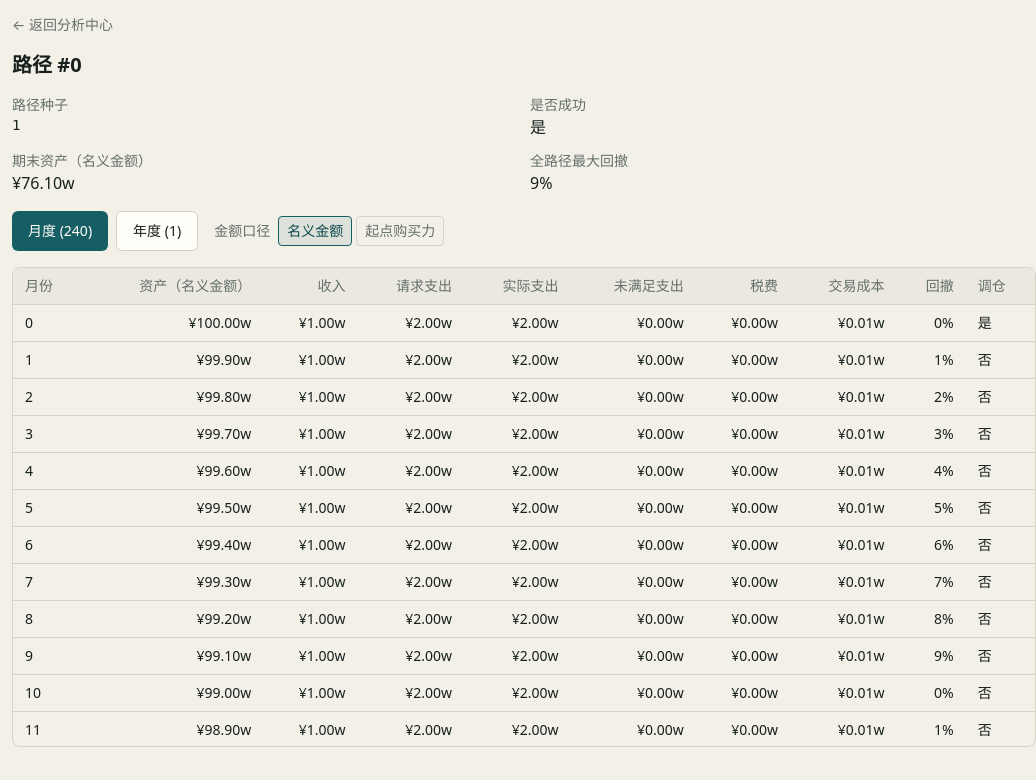
Test: PathDetailPage › opens year-end weights via 查看 tooltip with graceful labels, never holding IDs
Expected: the button "月度 (240)" is shown, [12, 211, 108, 251]
Step 1. Click the button "年度 (1)" → (157, 231), box [116, 211, 198, 251]
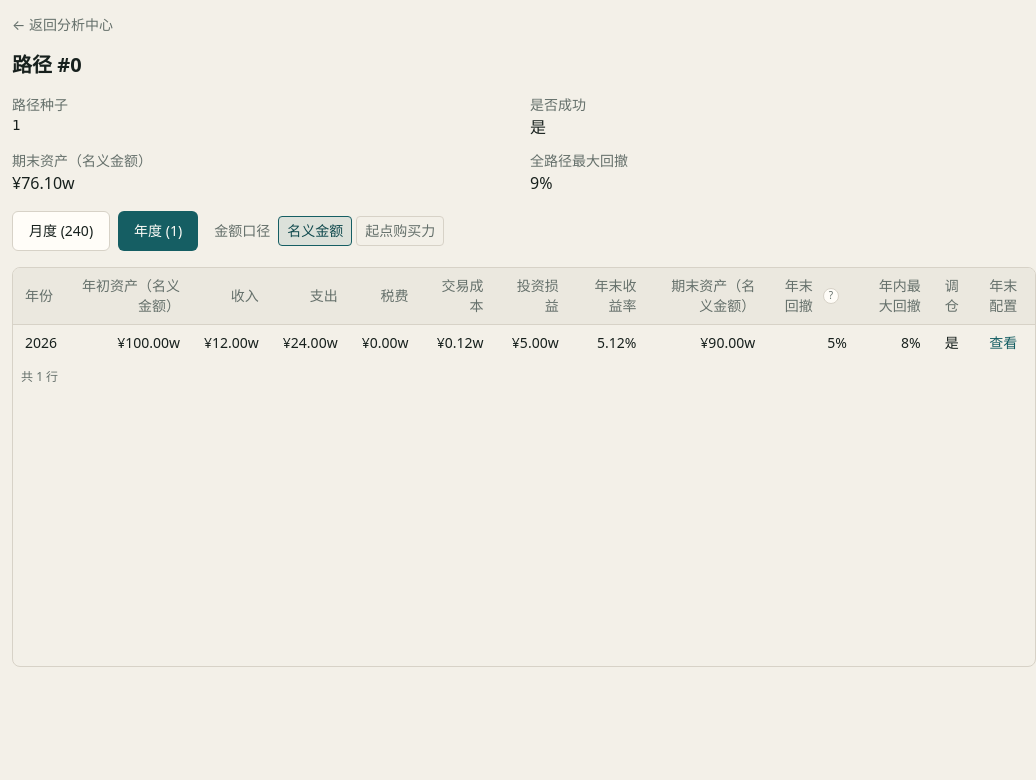
Expected: the text "沪深300ETF（510300）: 70.00%" is not shown
Note: Hover opens the tooltip.
Step 2. Hover over the button with aria-label "查看 2026 年末资产配置" → (1003, 343), box [989, 333, 1017, 353]
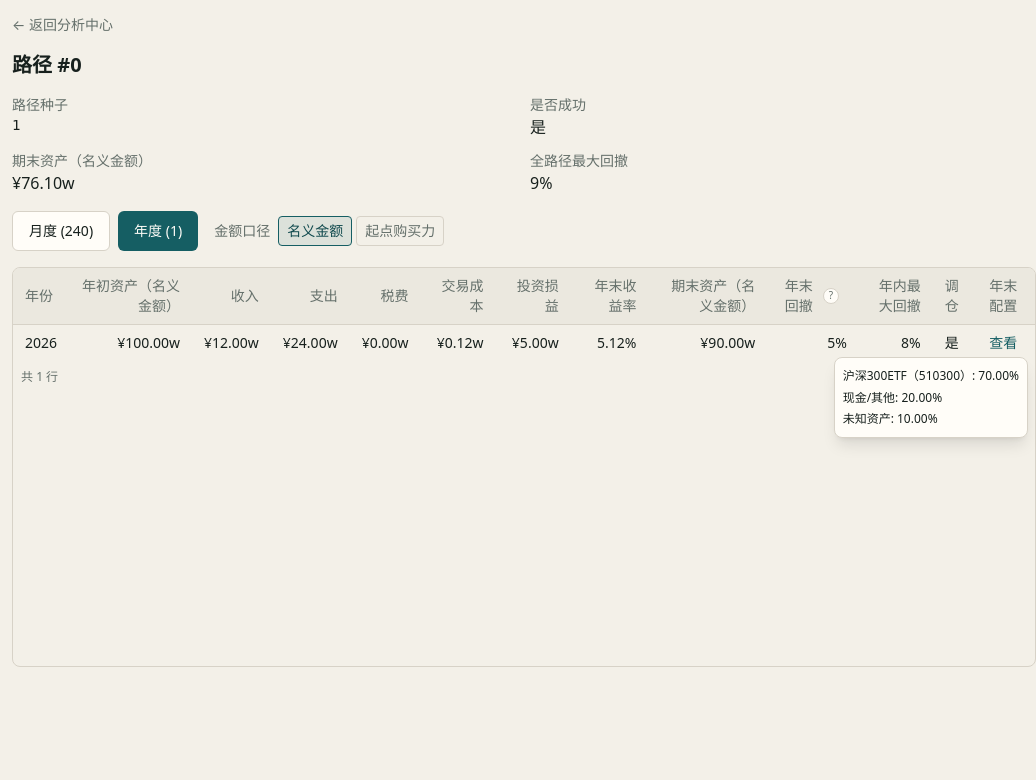
Now the list item "沪深300ETF（510300）: 70.00%" is shown, box [843, 366, 1019, 386]
Now the list item "现金/其他: 20.00%" is shown, box [843, 388, 942, 406]
Now the list item "未知资产: 10.00%" is shown, box [843, 410, 938, 427]
